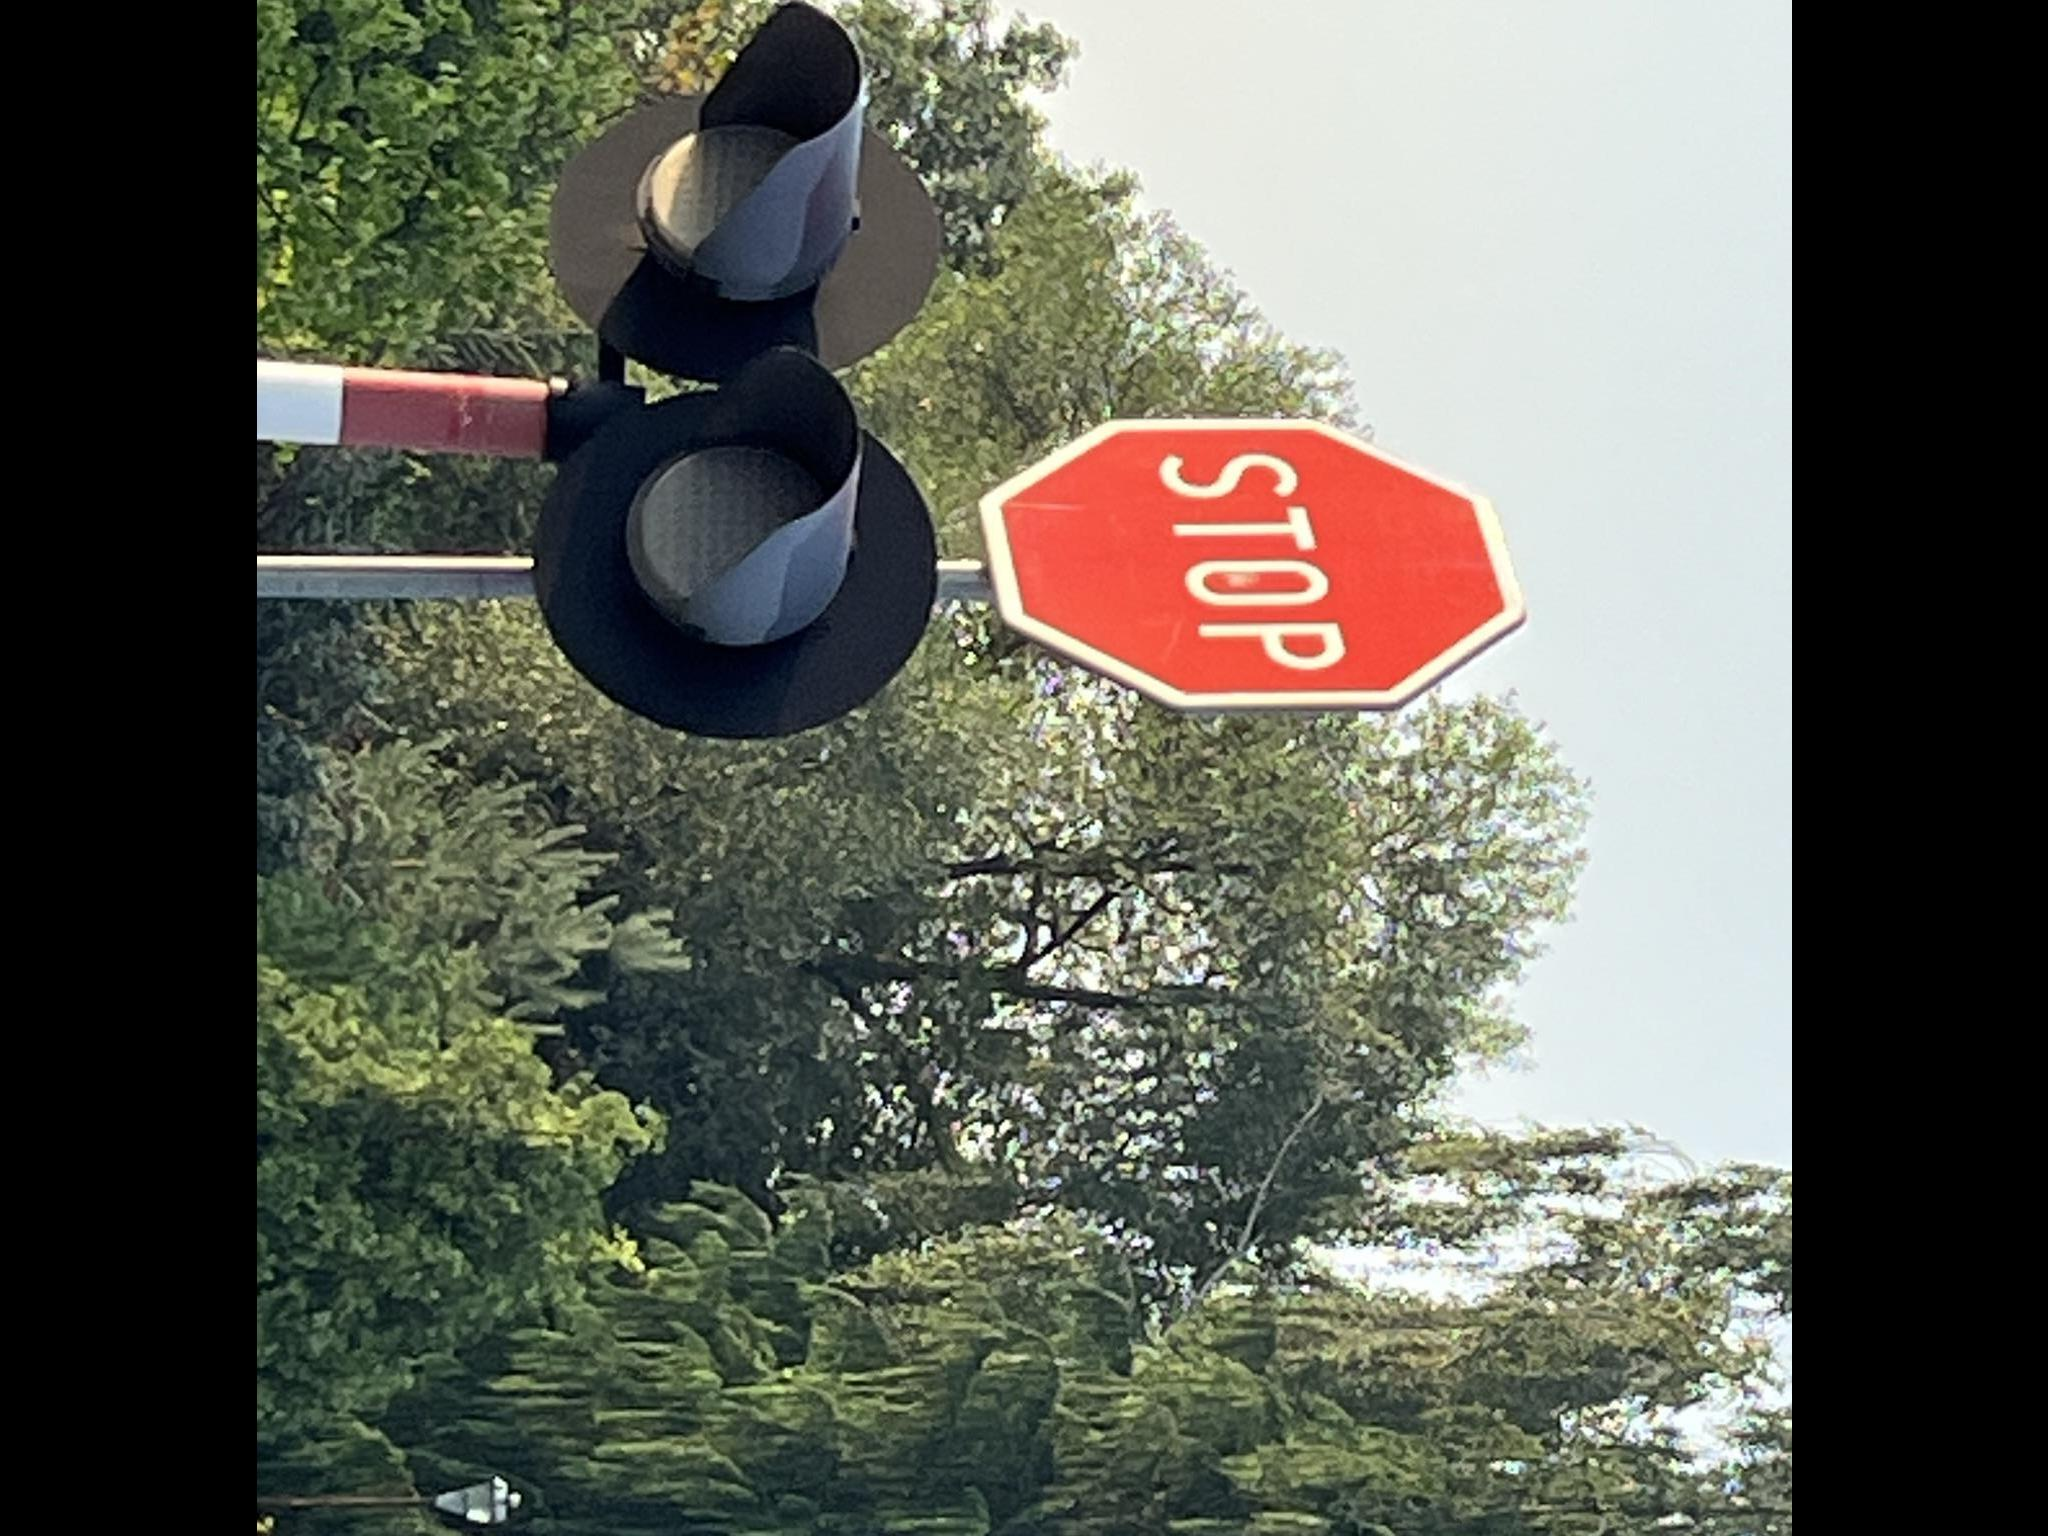prohibitory: (980, 416, 1530, 712)
